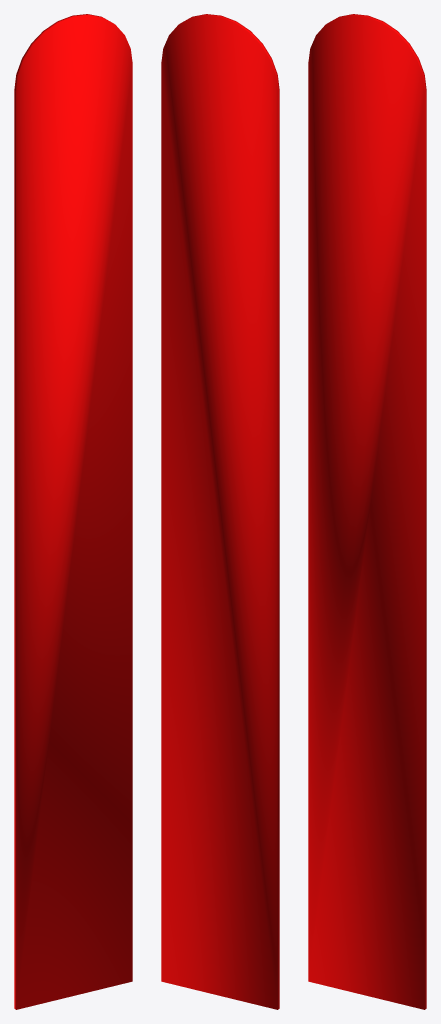
The model's file is original-5.obj.
3 views of the same model, side by side, from view 1: azimuth 30°, elevation 25°; view 2: azimuth 150°, elevation 25°; view 3: azimuth 330°, elevation 25° (orthographic).
Visible parts, largest first — view 1: original-5; view 2: original-5; view 3: original-5.
Part boxes in pixels (box(x1,y1,x2,y2)): original-5: box(14, 14, 132, 1009); original-5: box(161, 14, 279, 1009); original-5: box(308, 14, 426, 1009).
Bounding box in the file's own units: 0.0333 × 0.267 × 0.001.
